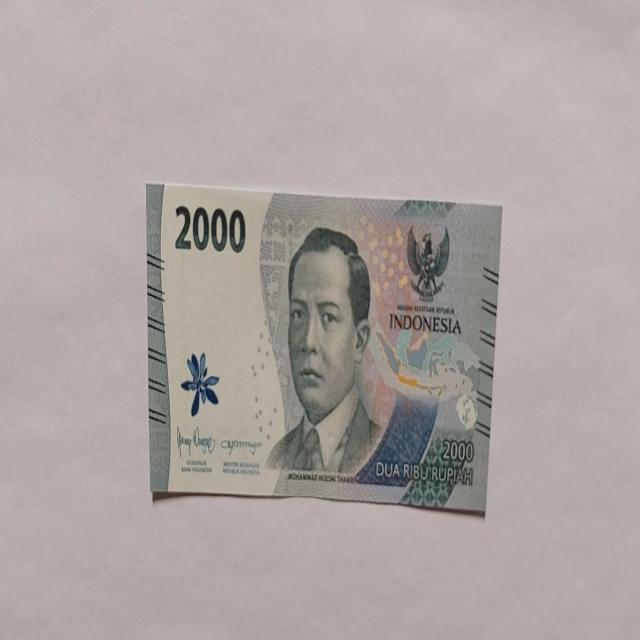dua ribu rupiah: (146, 180, 502, 512), (265, 225, 383, 478)
